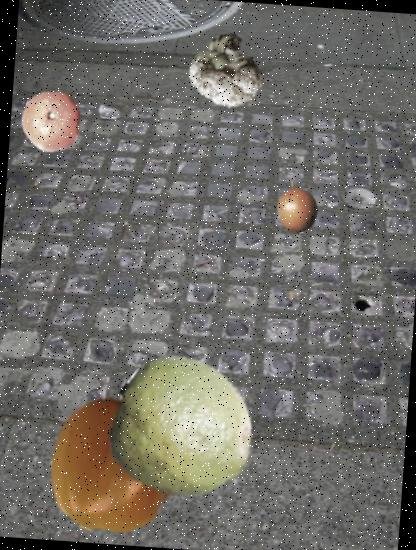Cauliflower: (185, 28, 267, 110)
Clementine: (18, 87, 86, 155)
Granadilla: (267, 176, 326, 235)
Limes: (104, 352, 261, 508)
Pepper: (40, 390, 190, 540)
